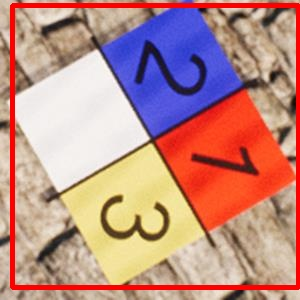nfpa: (12, 5, 298, 287)
